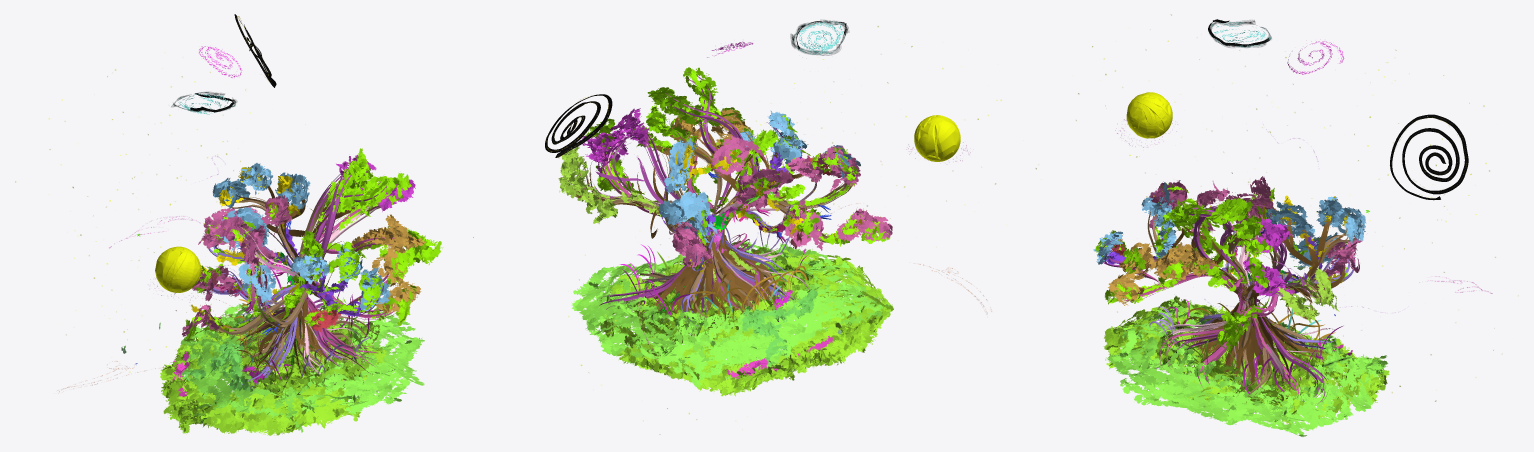
The model's file is island_in_the_space.glb.
3 renders of one model, left to right at view 1: azimuth 30°, elevation 25°; view 2: azimuth 150°, elevation 25°; view 3: azimuth 270°, elevation 25°, orthographic.
Parts seen in each view (by area): view 1: Object_14, Object_10, Object_6, Object_4, Object_42, Object_20, Object_34, Object_12; view 2: Object_14, Object_10, Object_6, Object_4, Object_34, Object_12, Object_20, Object_8, Object_42; view 3: Object_14, Object_10, Object_6, Object_34, Object_4, Object_42, Object_20, Object_12.
Part boxes in pixels (box(x1,y1,x2,y2)): Object_14: box(121, 148, 443, 435); Object_10: box(135, 162, 419, 389); Object_6: box(236, 177, 380, 375); Object_4: box(226, 270, 369, 391); Object_42: box(178, 46, 242, 114); Object_20: box(171, 92, 363, 392); Object_34: box(234, 14, 276, 87); Object_12: box(224, 225, 361, 377); Object_14: box(558, 67, 893, 396); Object_10: box(578, 72, 960, 369); Object_6: box(568, 111, 828, 335); Object_4: box(473, 227, 807, 320); Object_34: box(545, 94, 612, 157); Object_12: box(612, 137, 816, 319); Object_20: box(651, 20, 848, 331); Object_8: box(591, 157, 767, 316); Object_42: box(707, 22, 843, 57); Object_14: box(1093, 176, 1389, 436); Object_10: box(1099, 92, 1356, 403); Object_6: box(1141, 208, 1347, 384); Object_34: box(1390, 114, 1468, 200); Object_4: box(1149, 299, 1343, 393); Object_42: box(1214, 25, 1344, 74); Object_20: box(1155, 20, 1351, 368); Object_12: box(1182, 192, 1334, 384).
Bounding box in the file's own units: 24.55 × 20.76 × 23.37.
16 materials, 15 textured.
